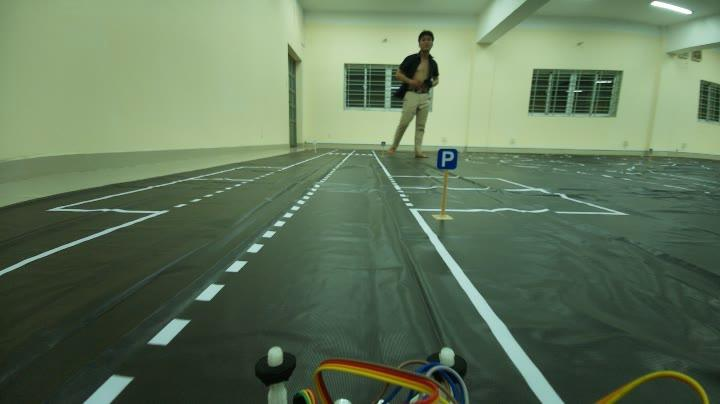parking: (434, 146, 463, 174)
